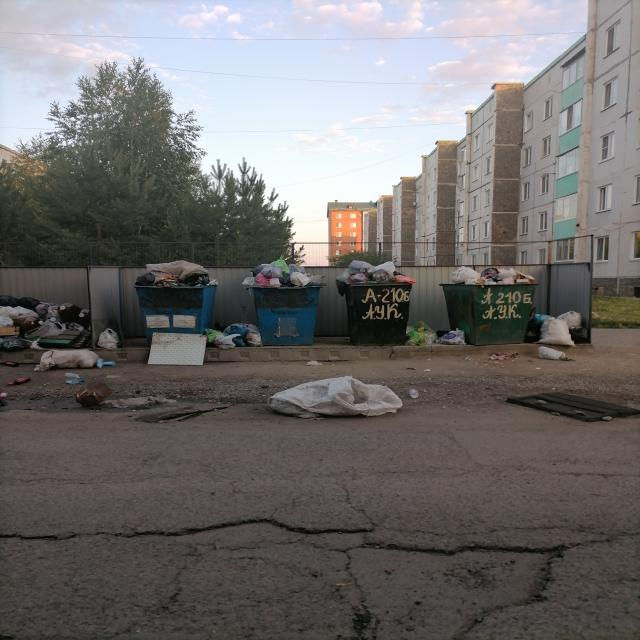bin: (441, 284, 540, 345), (336, 281, 413, 344), (250, 285, 324, 345), (134, 285, 219, 337)
plastic: (264, 369, 442, 426), (0, 294, 118, 367), (534, 310, 600, 360), (245, 263, 325, 287), (67, 378, 120, 414), (139, 261, 217, 285), (337, 261, 416, 283), (457, 268, 539, 283)
